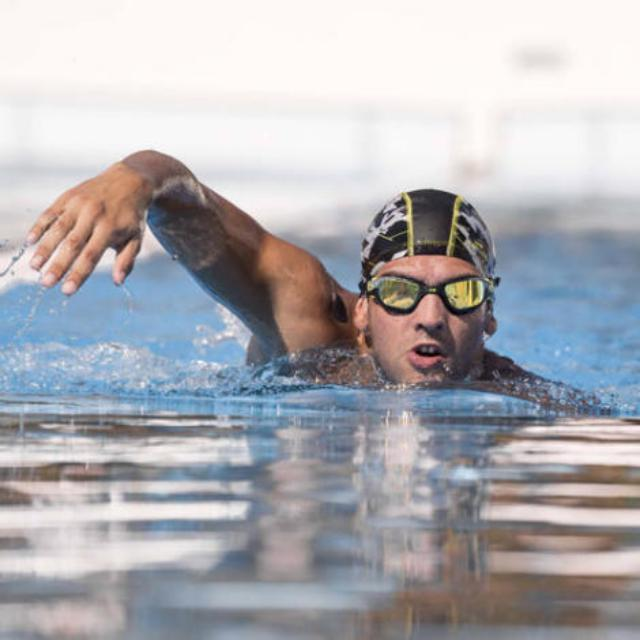human: (26, 145, 607, 422)
